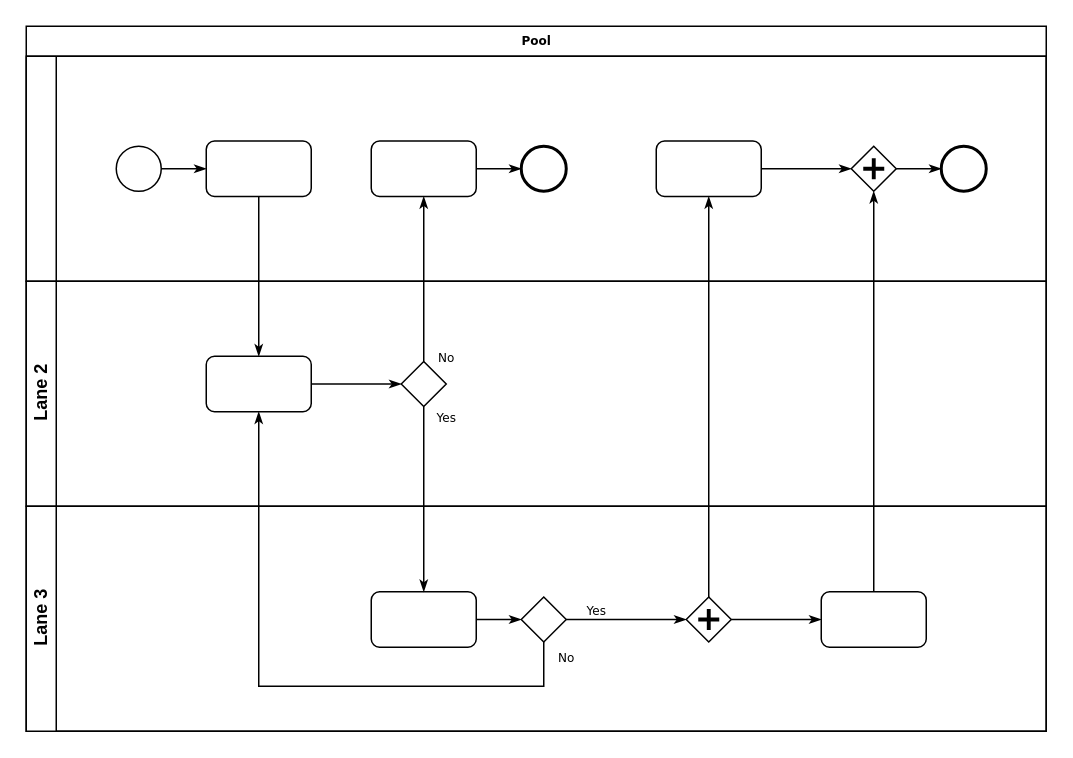
Image size: 1073x758. Some labels were removed from this diagram. Here are the shapes that lost their labels. From the top down, the box of each, then its label:
(25, 55, 1046, 281): UPSTREAM
(205, 355, 311, 412): PASSPORT VERFICATION API
